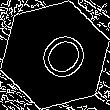O_SW: (22, 22, 88, 88)
